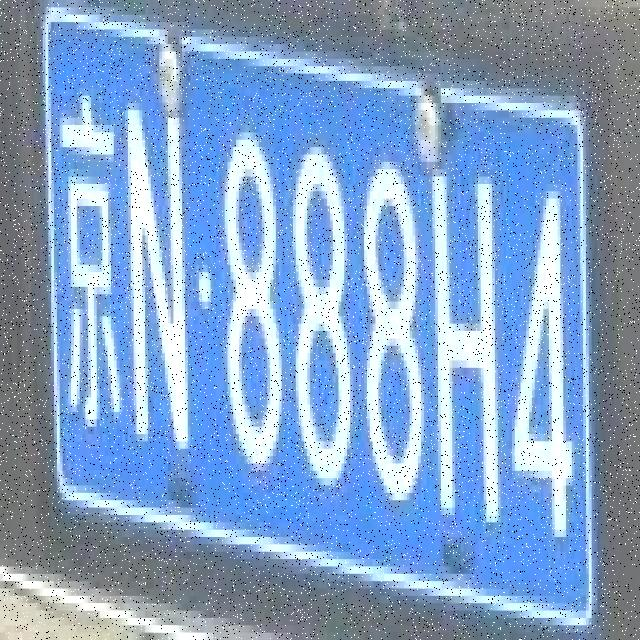licenseplate: (42, 1, 596, 634)
